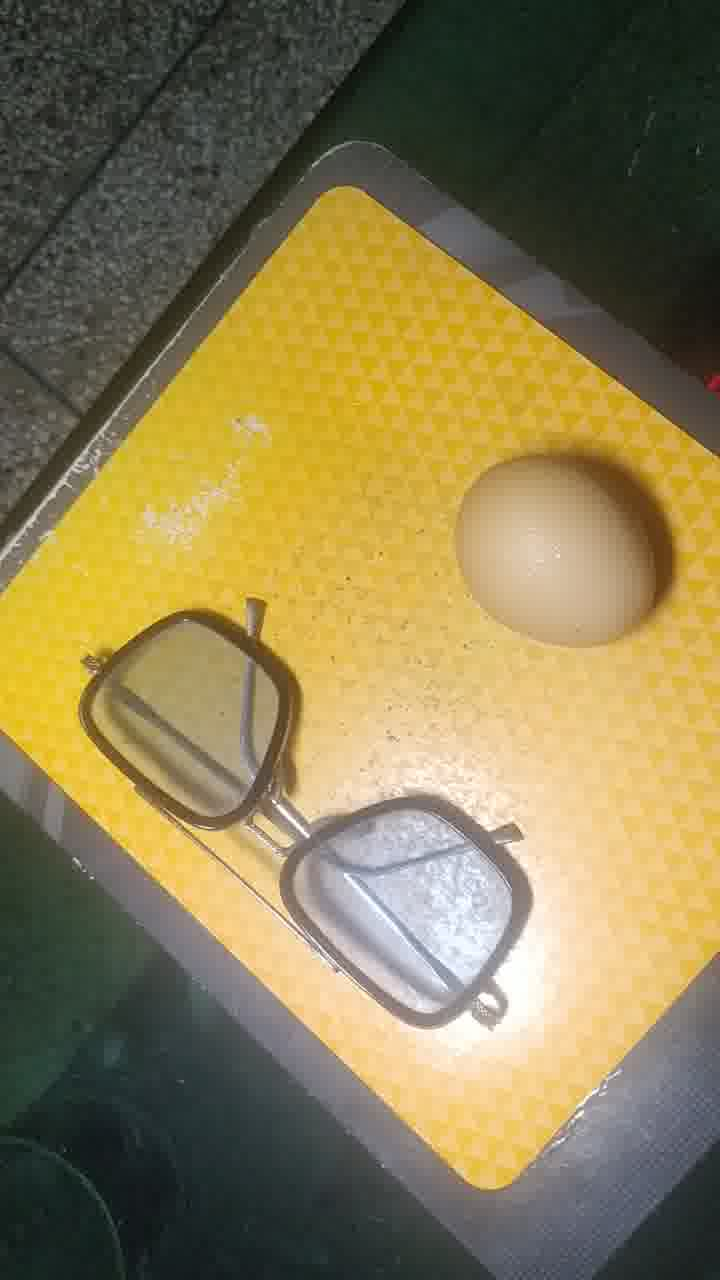egg: (454, 450, 671, 656)
sunglass: (66, 593, 534, 1087)
